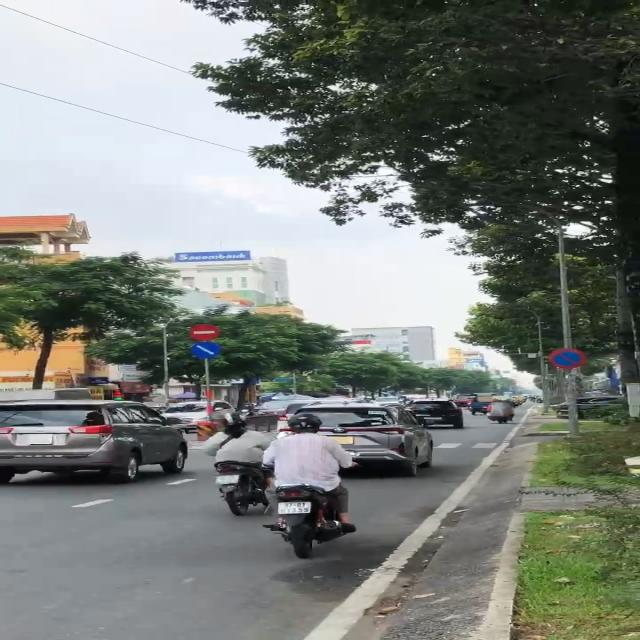Bien bao cam di nguoc chieu: (187, 324, 218, 342)
Bien bao huong phai di vong chuong ngai vat: (187, 339, 224, 362)
